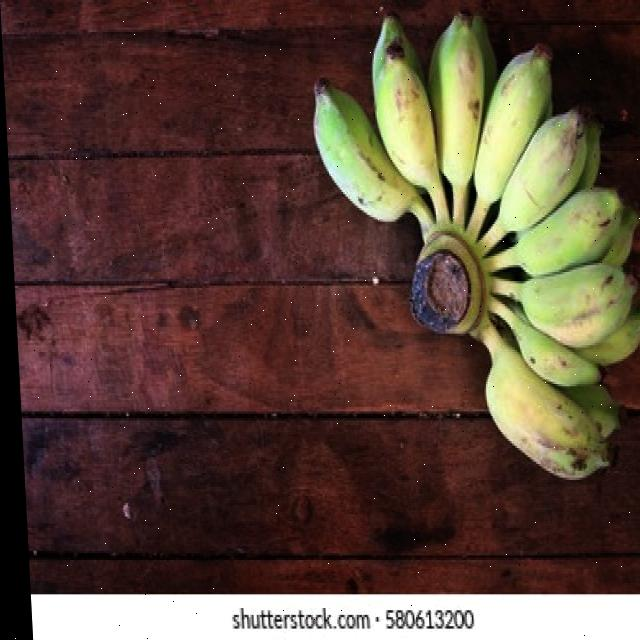banana: (304, 5, 640, 483)
